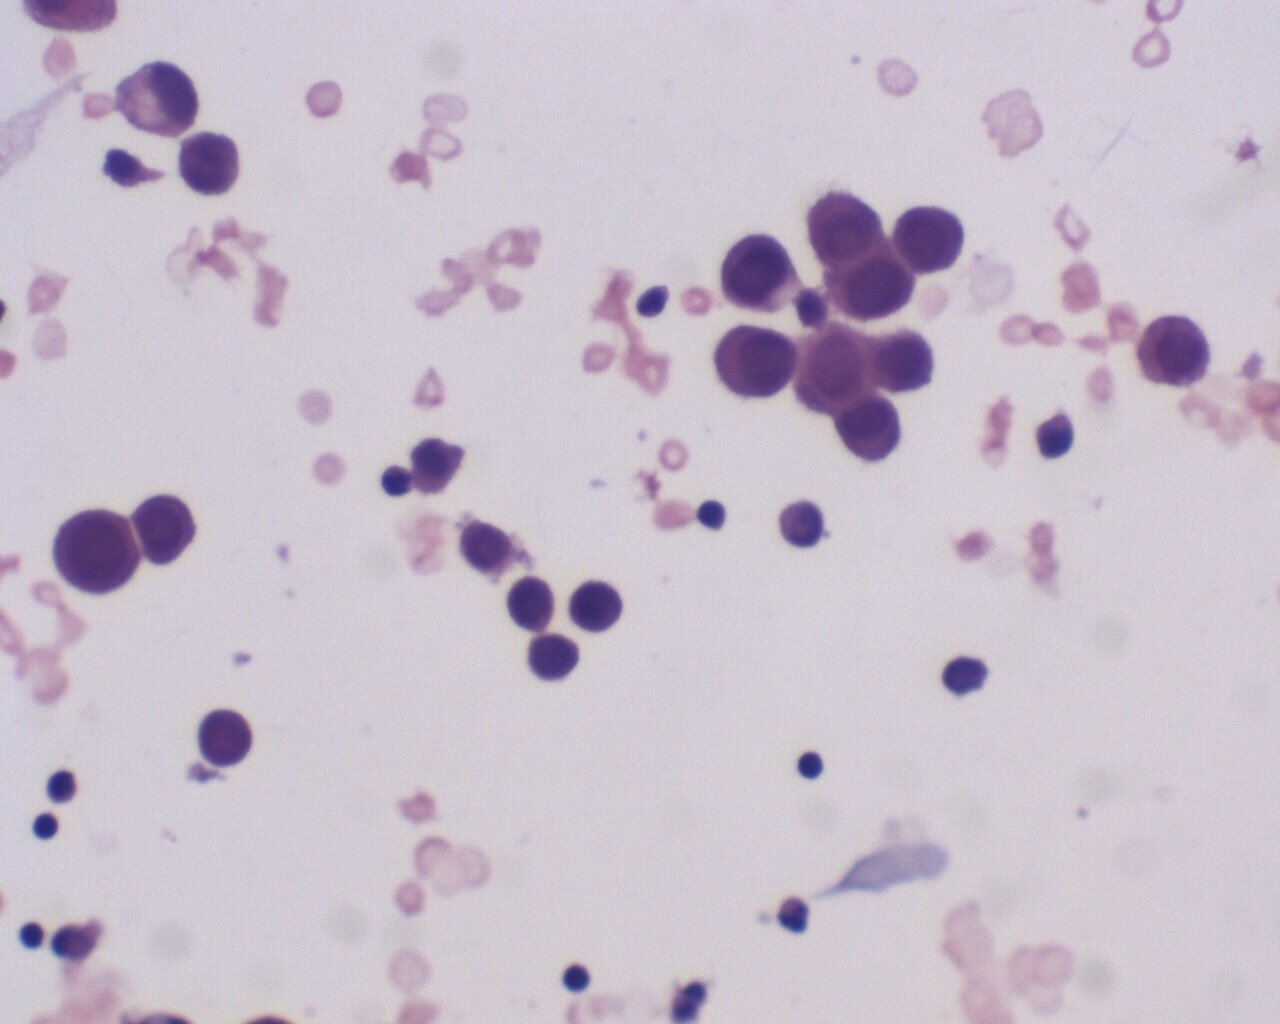ab: (53, 505, 143, 596), (709, 320, 798, 404), (828, 245, 920, 326), (802, 185, 885, 265), (721, 232, 796, 318), (1134, 306, 1210, 390), (894, 199, 968, 282), (177, 132, 251, 204), (138, 490, 197, 568), (871, 324, 935, 396), (191, 705, 260, 769)
lymph: (14, 915, 59, 957), (557, 954, 599, 998), (27, 807, 66, 848), (794, 742, 825, 788)
neutro: (379, 459, 414, 497)
